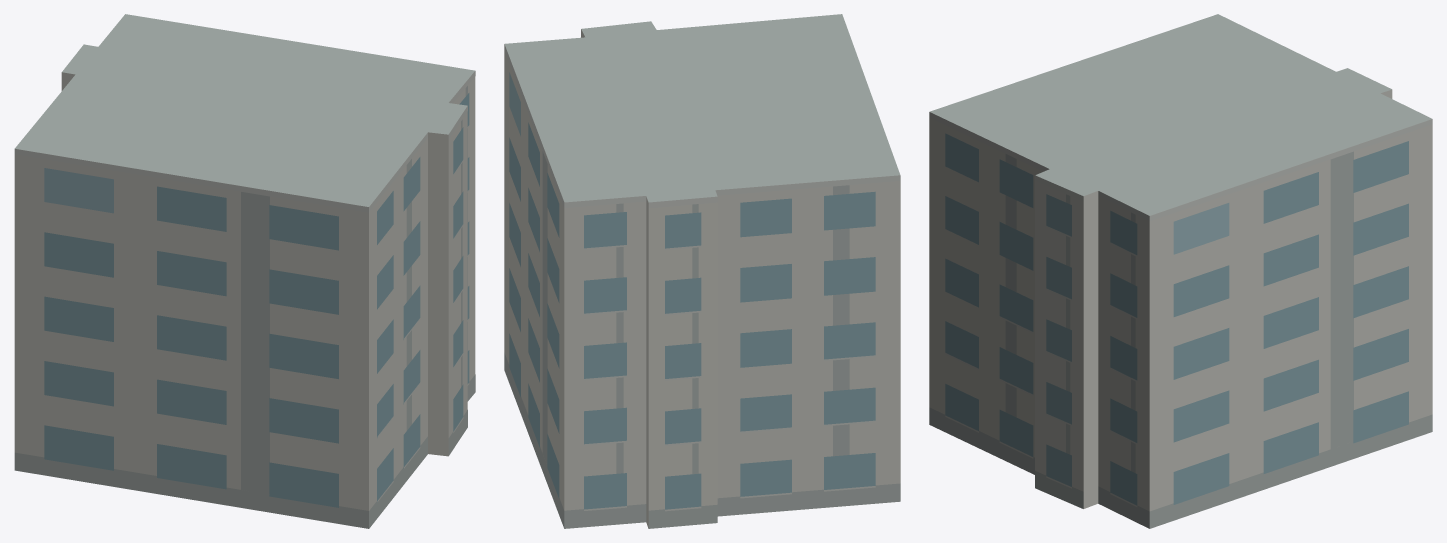
Rendered from survey-upis-32760848.glb.
3 views of the same model, side by side, from view 1: azimuth 30°, elevation 25°; view 2: azimuth 150°, elevation 25°; view 3: azimuth 270°, elevation 25° (orthographic). The views are drawn at different scales.
Visible parts, largest first — view 1: survey-upis-32760848.tmp; view 2: survey-upis-32760848.tmp; view 3: survey-upis-32760848.tmp.
Boxes of the visible parts, left/top/right/bottom form: survey-upis-32760848.tmp: left=14, top=14, right=475, bottom=528; survey-upis-32760848.tmp: left=504, top=14, right=900, bottom=528; survey-upis-32760848.tmp: left=929, top=14, right=1432, bottom=528.
Size of the model in its own units: 19.04 by 13.75 by 20.06.
